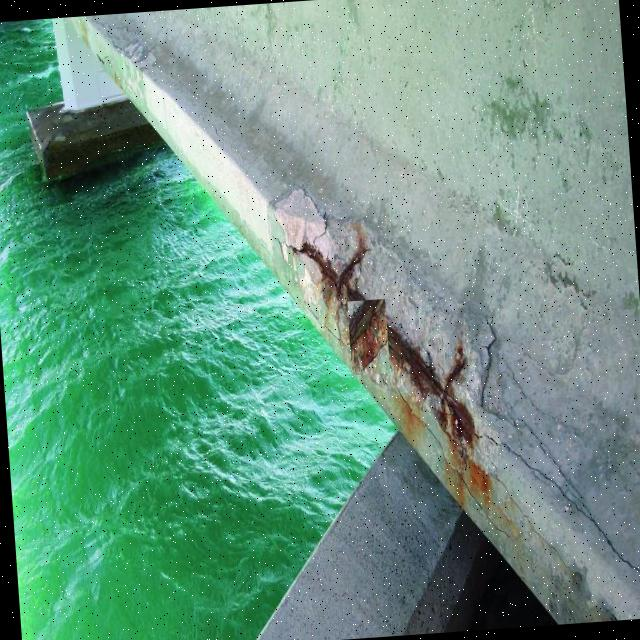Corrosion: (34, 0, 640, 640), (268, 174, 494, 518)
